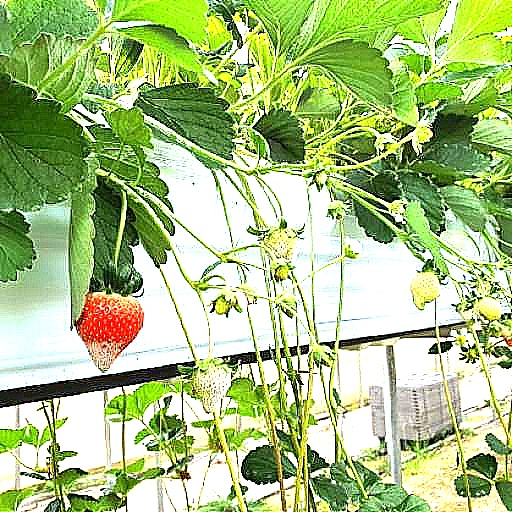Powdery Mildew Fruit: (366, 293, 439, 374), (281, 358, 321, 415), (208, 225, 249, 266)
